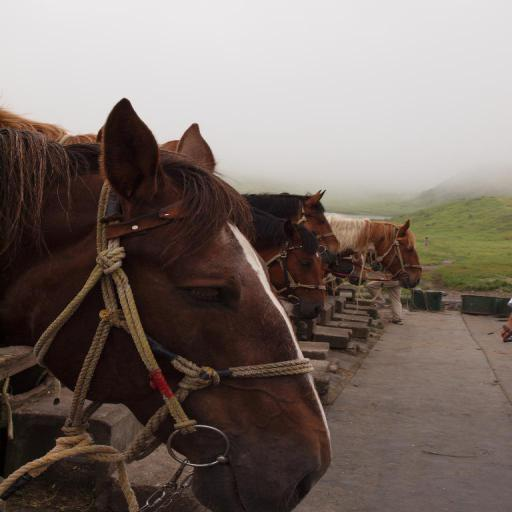horse: (0, 98, 425, 512)
